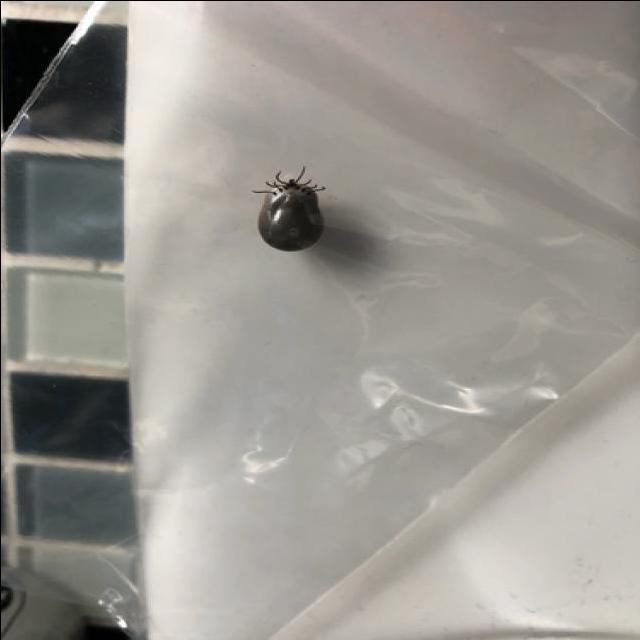Ixodes Ricinus-F-Fed: (247, 164, 326, 252)
